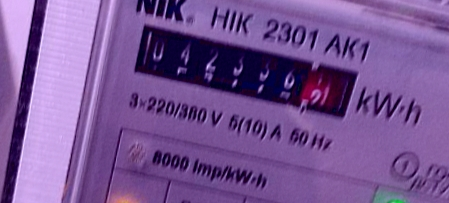0: (150, 33, 167, 64)
2: (202, 43, 224, 73)
3: (228, 47, 248, 78), (257, 53, 275, 82)
4: (176, 38, 196, 67)
6: (281, 62, 300, 91)
screen: (120, 13, 370, 129)
